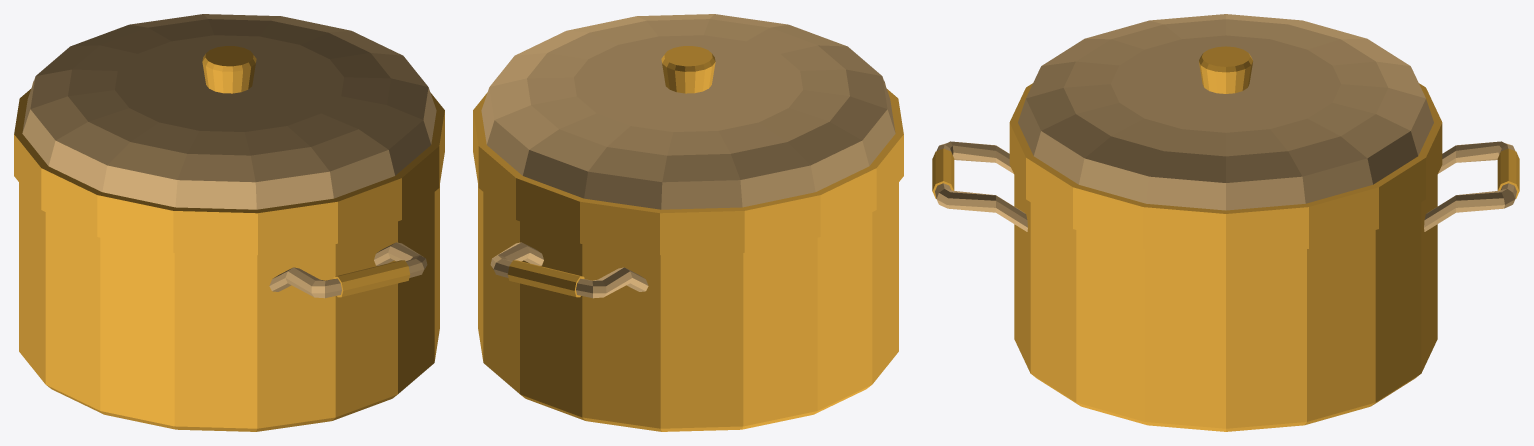
File: Stock Pot 1.fbx
The picture shows the model from 3 angles, left to right: view 1: azimuth 30°, elevation 25°; view 2: azimuth 150°, elevation 25°; view 3: azimuth 270°, elevation 25°; orthographic projection.
Visible parts, largest first — view 1: Node 0, Node 1; view 2: Node 0, Node 1; view 3: Node 0, Node 1.
Boxes of the visible parts, x1=… form: Node 0: x1=14, y1=81, x2=444, y2=431; Node 1: x1=22, y1=14, x2=436, y2=209; Node 0: x1=473, y1=81, x2=903, y2=431; Node 1: x1=481, y1=14, x2=895, y2=209; Node 0: x1=932, y1=83, x2=1519, y2=431; Node 1: x1=1018, y1=14, x2=1433, y2=210.
Bounding box in the file's own units: 0.3563 × 0.1934 × 0.2628.
